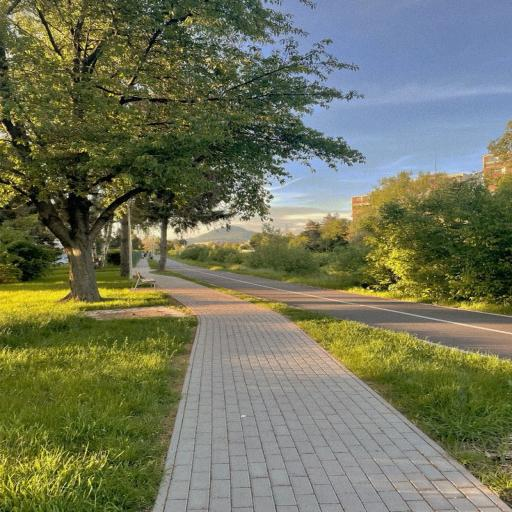ramp: (146, 244, 512, 364)
shelf: (122, 261, 512, 512)
